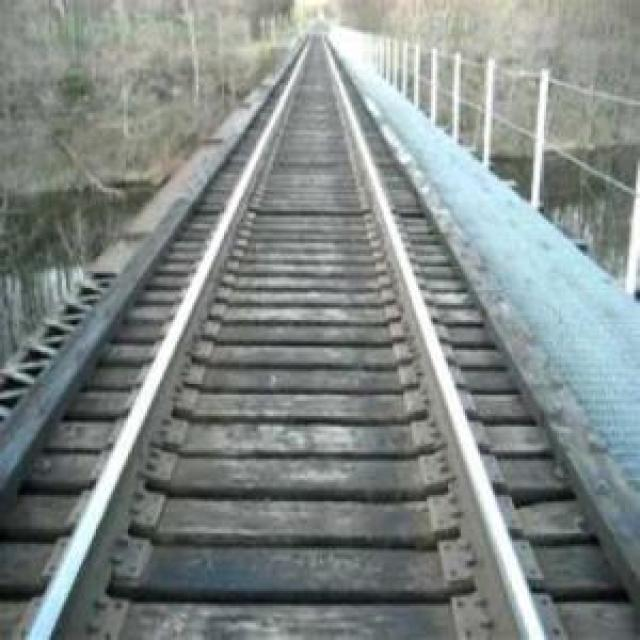rail: (9, 31, 593, 640)
